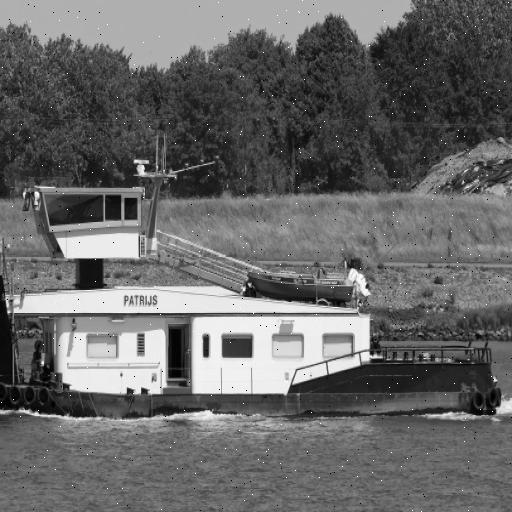tugboat: (1, 131, 508, 433)
